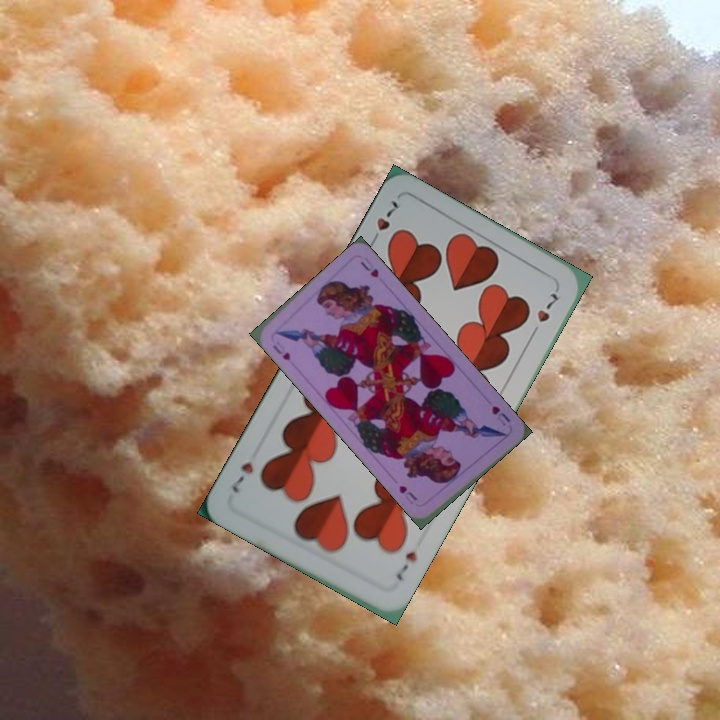H7: (365, 196, 401, 249), (391, 547, 420, 584)
HU: (487, 402, 513, 428), (268, 337, 293, 363)
